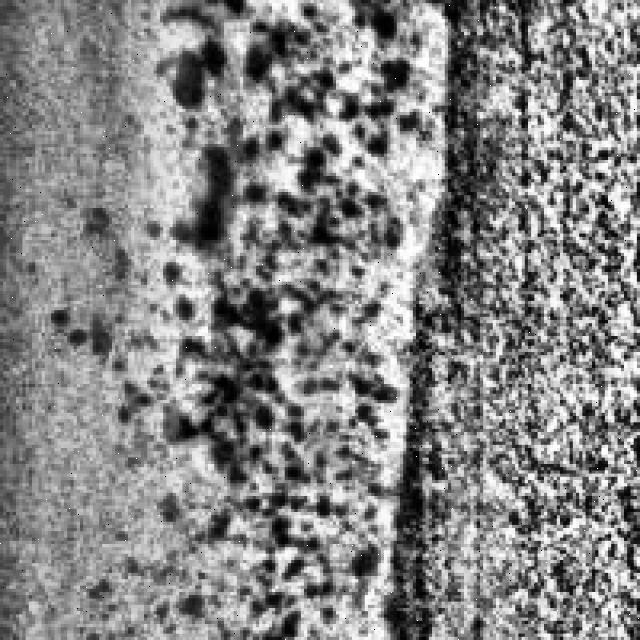Rolled_in_Scale: (115, 0, 403, 598), (377, 0, 636, 630)
